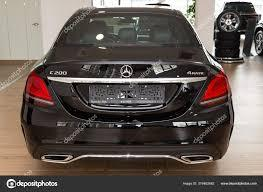mercedes: (119, 63, 136, 79)
